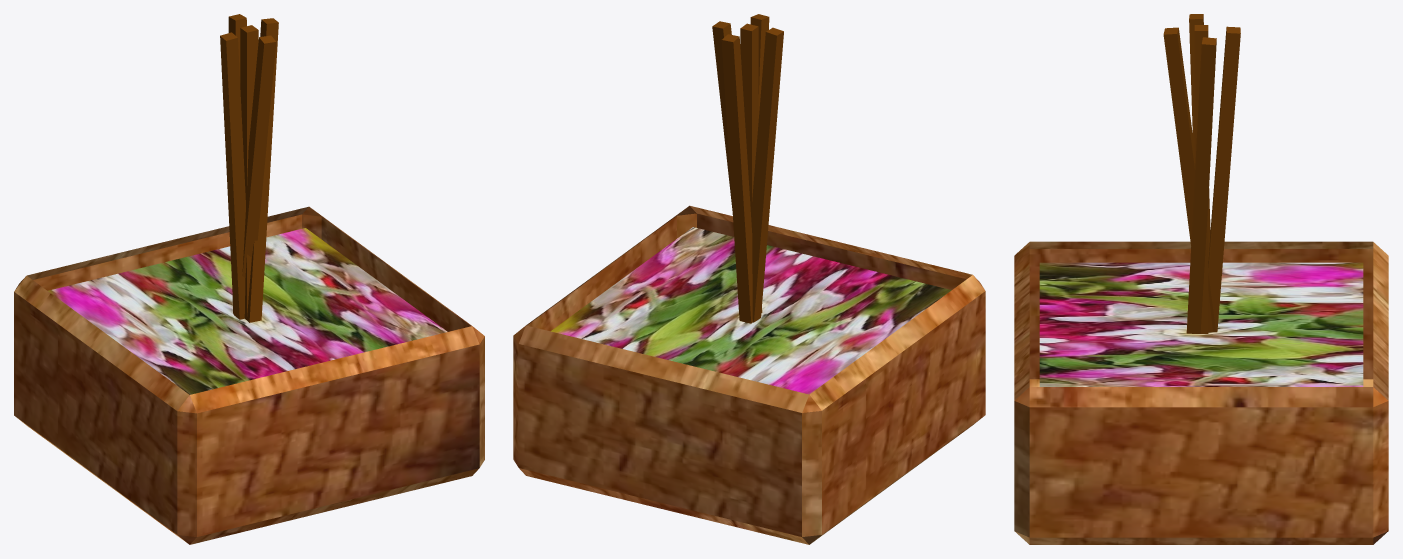
File: sesajen revisi.fbx
3 views of the same model, side by side, from view 1: azimuth 30°, elevation 25°; view 2: azimuth 150°, elevation 25°; view 3: azimuth 270°, elevation 25° (orthographic). The views are drawn at different scales.
Parts seen in each view (by area): view 1: Cube.001, Cube.002, Cube.005, Cube.003, Cube.006, Cube; view 2: Cube.001, Cube.002, Cube.004, Cube.005, Cube, Cube.006, Cube.003; view 3: Cube.001, Cube.002, Cube.006, Cube.004, Cube.003, Cube, Cube.005.
Boxes of the visible parts, x1,y1,x2,y2 form: Cube.001: [14, 206, 484, 544]; Cube.002: [48, 228, 447, 394]; Cube.005: [220, 32, 245, 319]; Cube.003: [242, 35, 276, 277]; Cube.006: [246, 18, 278, 322]; Cube: [240, 25, 258, 319]; Cube.001: [513, 205, 985, 544]; Cube.002: [551, 227, 951, 394]; Cube.004: [721, 34, 752, 323]; Cube.005: [751, 27, 783, 322]; Cube: [740, 23, 758, 213]; Cube.006: [712, 21, 762, 312]; Cube.003: [746, 14, 769, 323]; Cube.001: [1014, 241, 1388, 544]; Cube.002: [1039, 262, 1363, 386]; Cube.006: [1186, 37, 1216, 333]; Cube.004: [1208, 26, 1240, 332]; Cube.003: [1163, 27, 1216, 332]; Cube: [1194, 25, 1208, 333]; Cube.005: [1189, 14, 1210, 260].
Bounding box in the file's own units: 38.73 × 50.77 × 38.73.
Materials: 7 (7 with a texture image).
